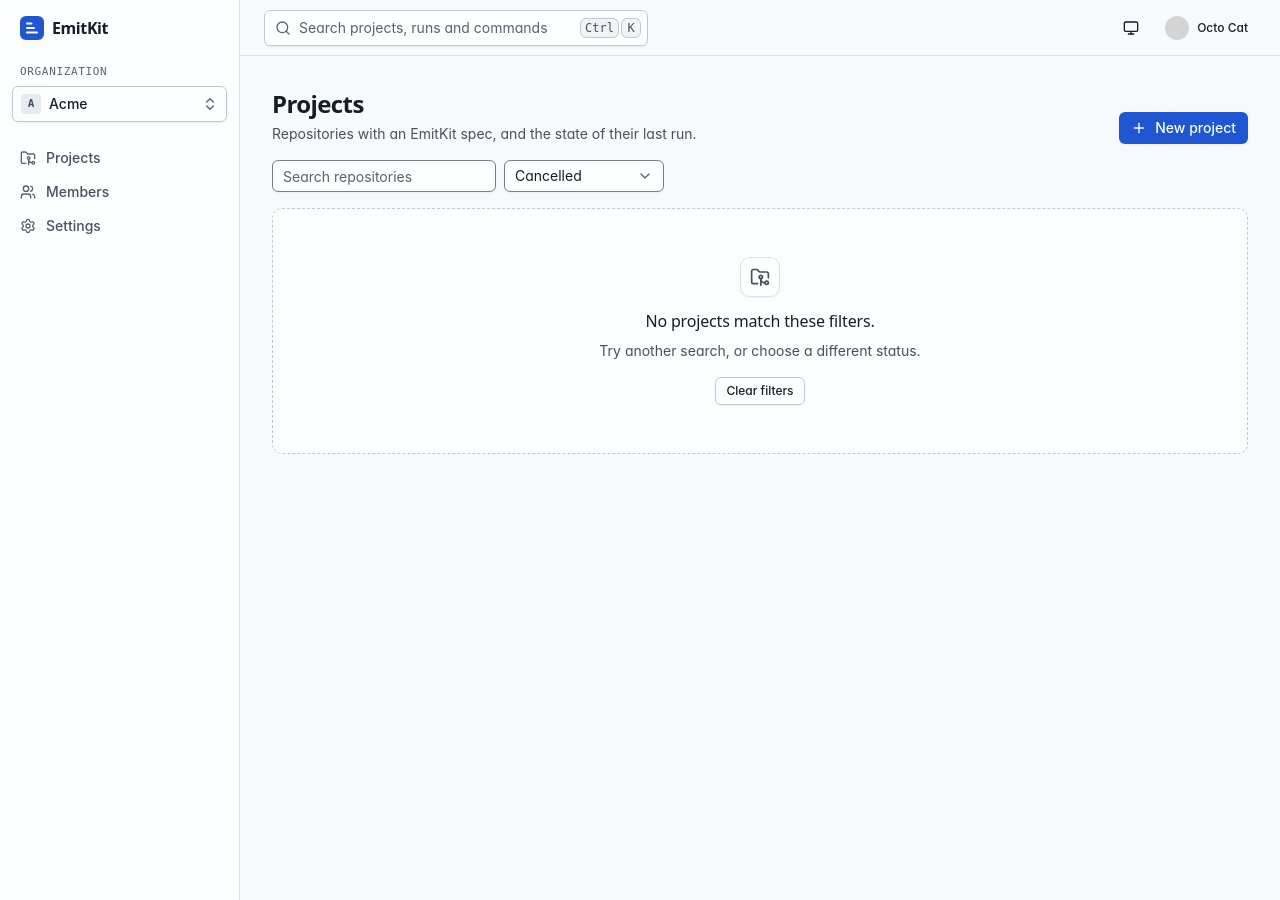
Test: a filter with no matches offers Clear filters, which returns to the unfiltered first page
Check: the heading "No projects match these filters." is shown, box [645,309,875,333]
Click the button "Clear filters" at (760, 391), box [716,377,805,405]
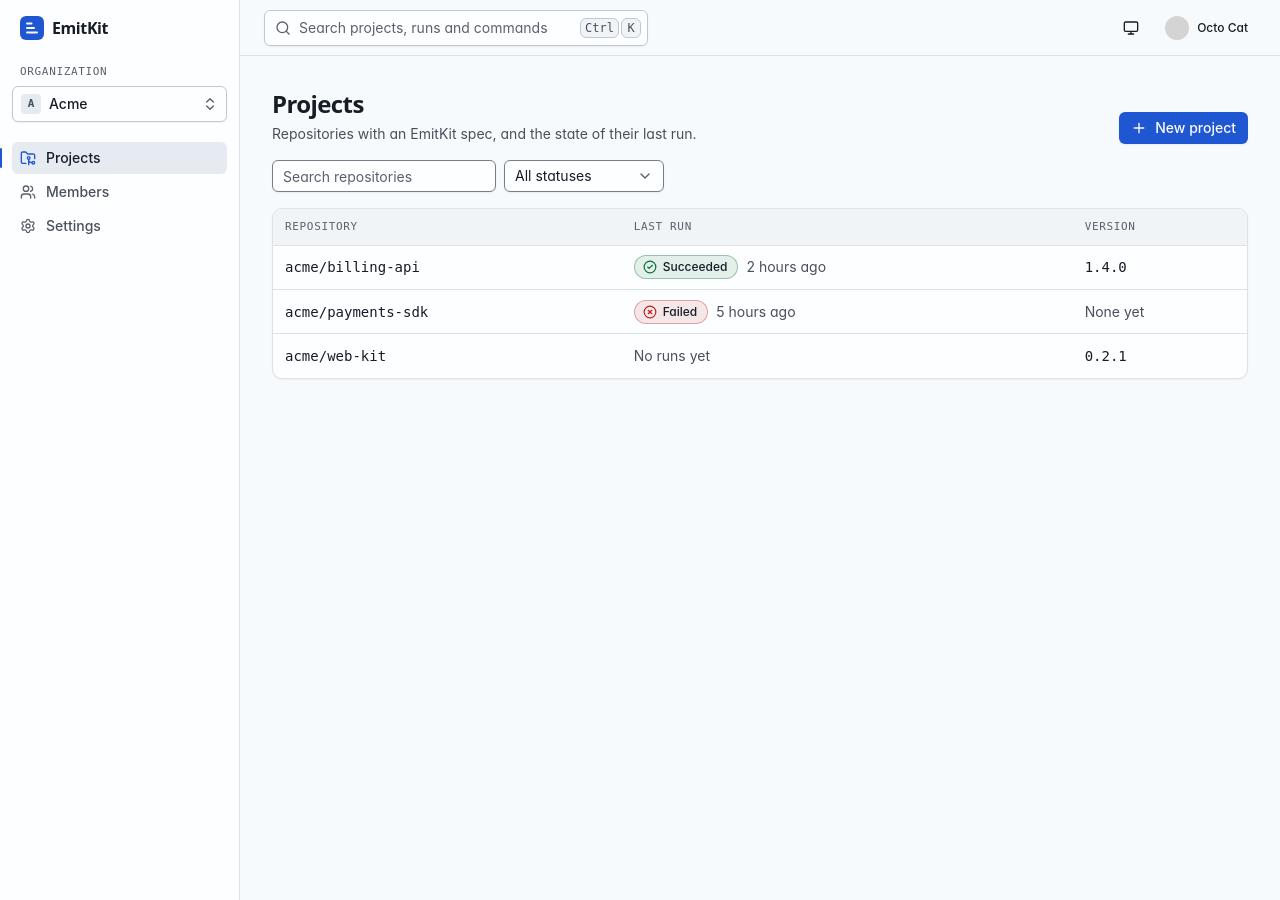
Check: the link "acme/billing-api" is shown, box [285,259,420,275]
Check: the link "acme/payments-sdk" is shown, box [285,304,428,320]
Check: the dropdown named "Last run status" reads "All statuses", box [504,160,664,192]
